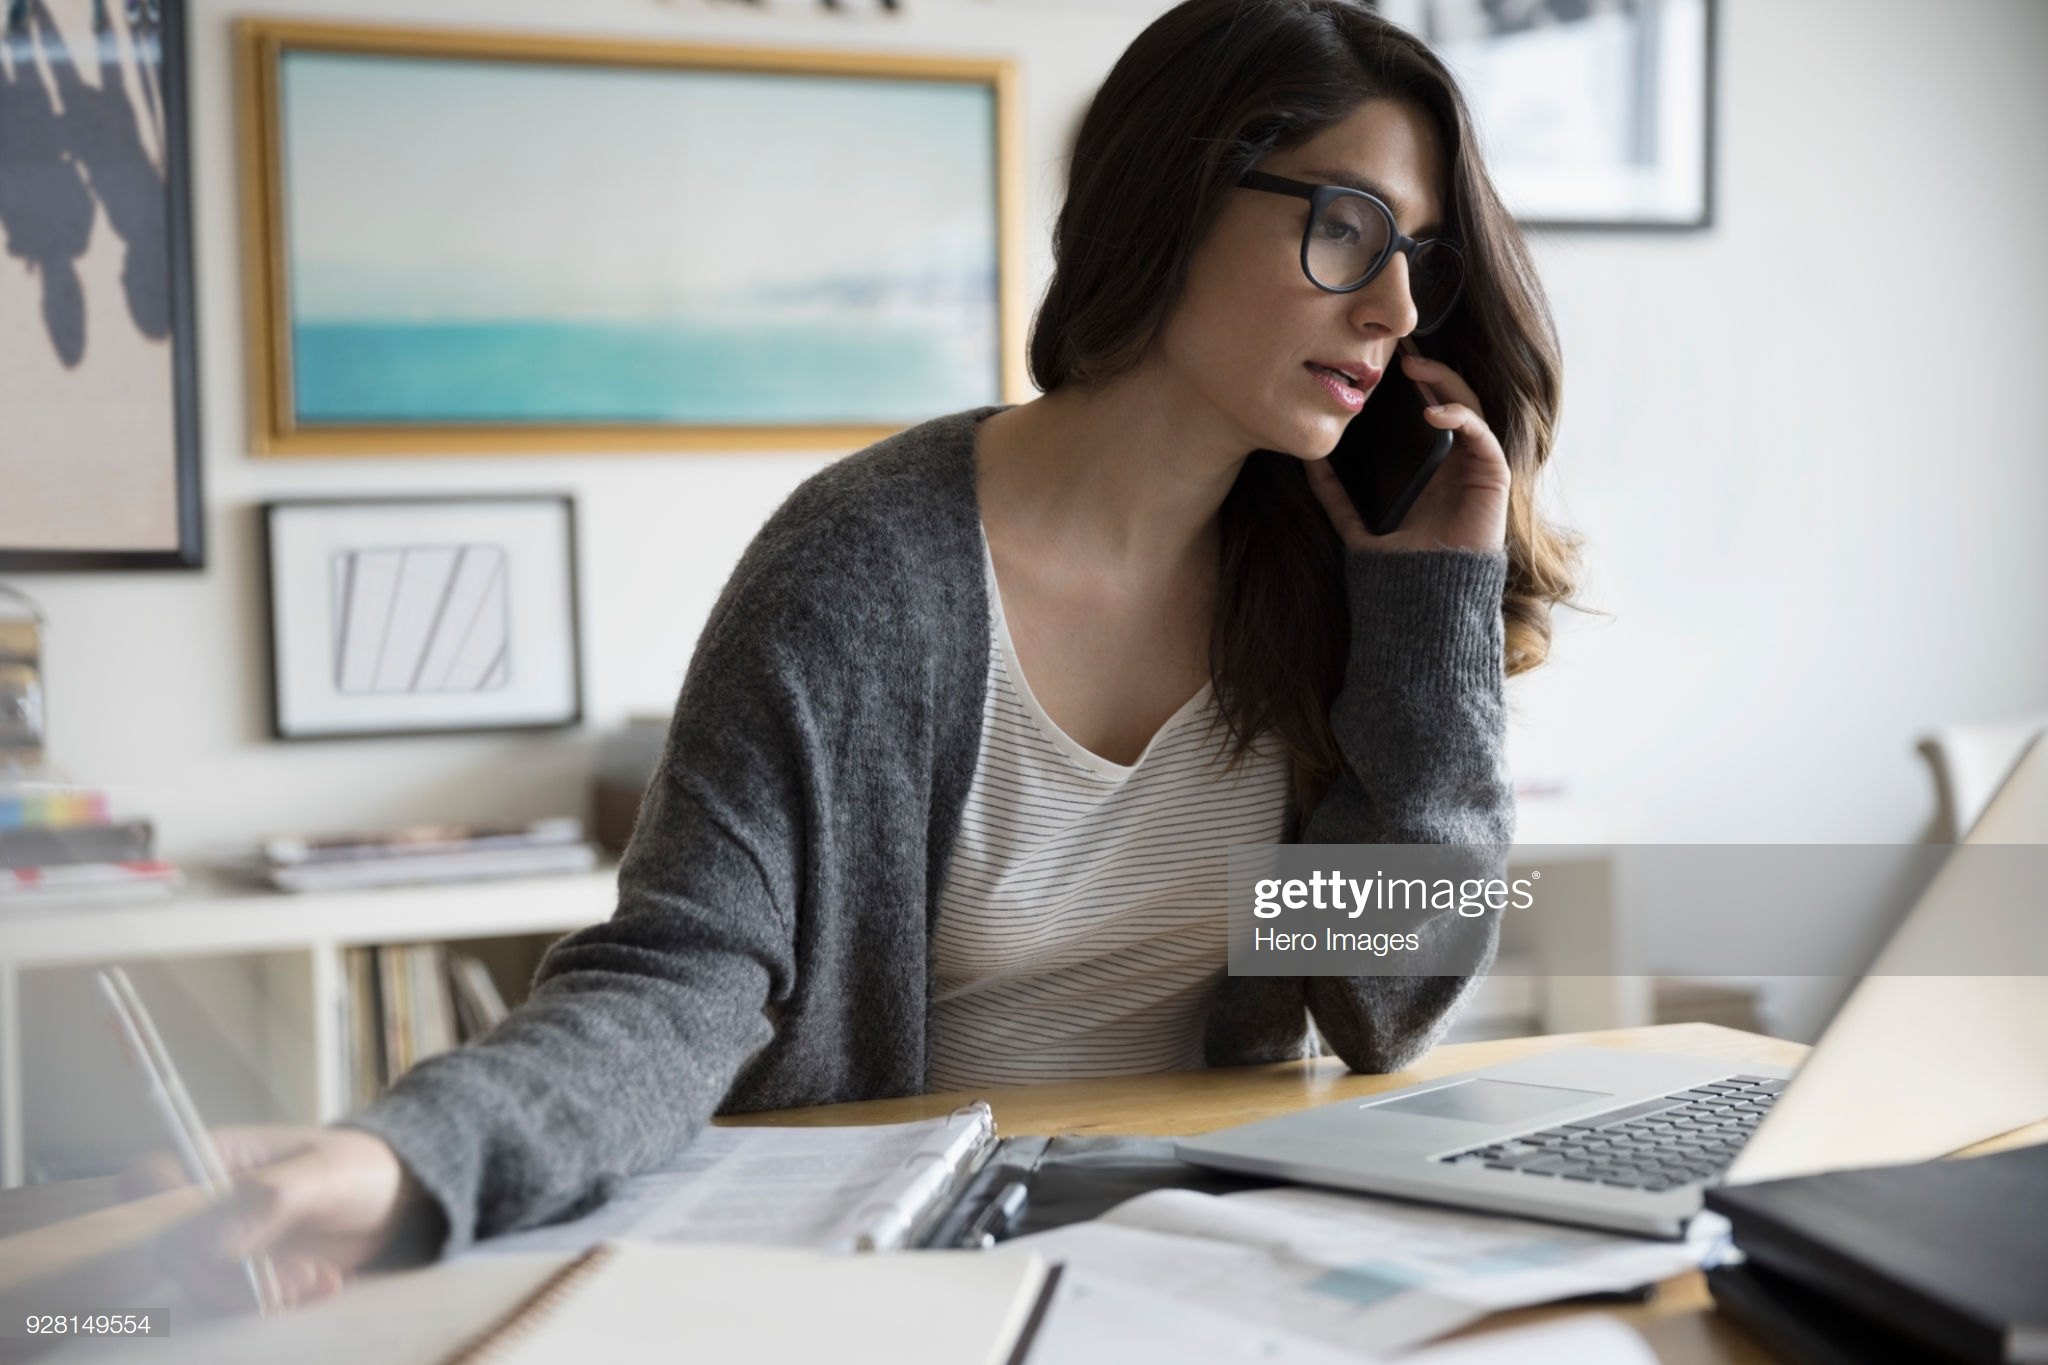phone: (1303, 312, 1471, 523)
talk: (1243, 166, 1536, 576)
